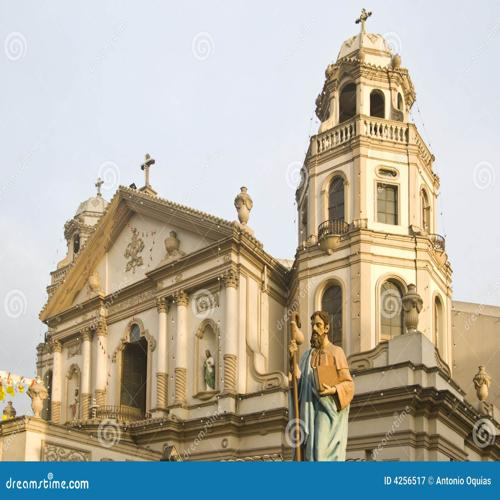Quiapo Church: (16, 8, 459, 454)
